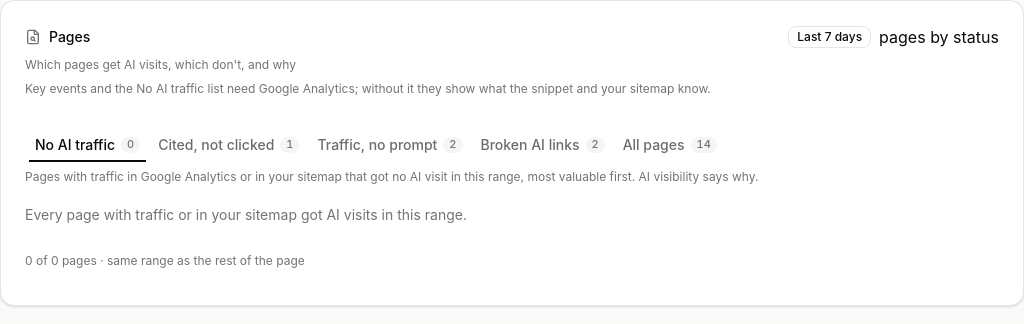
Test: PagesCard › says when a list is empty, when it couldn't load, and what needs Analytics
Click the tab "Cited, not clicked 1": (229, 145) [151, 132, 306, 158]
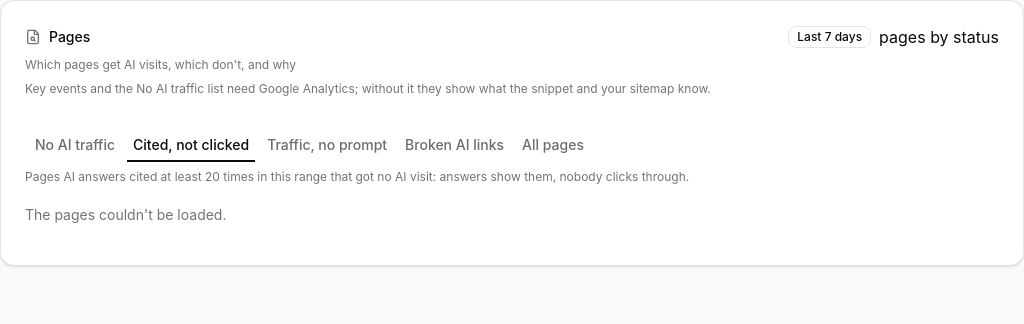
Check: the text "The pages couldn't be loaded." is shown, box [25, 206, 226, 223]
